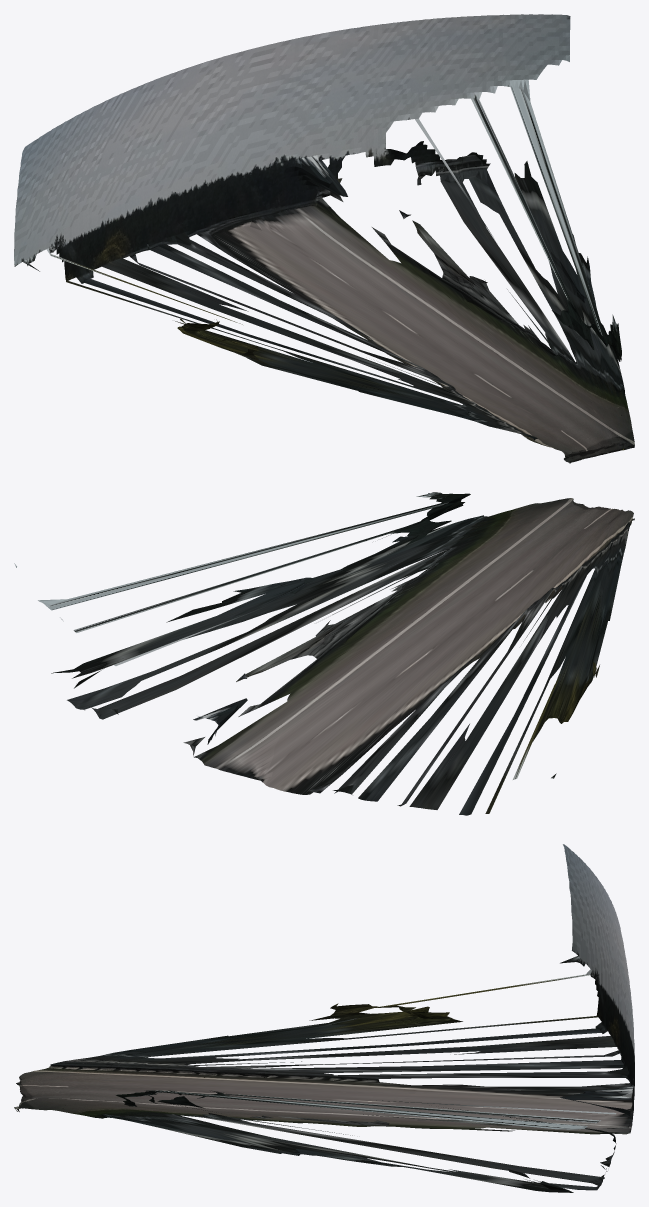
The picture shows the model from 3 angles, top to bottom: view 1: azimuth 30°, elevation 25°; view 2: azimuth 150°, elevation 25°; view 3: azimuth 270°, elevation 25°; orthographic projection. The views are drawn at different scales.
Parts seen in each view (by area): view 1: defaultobject; view 2: defaultobject; view 3: defaultobject.
Part boxes in pixels (x1,y1,x2,y2): defaultobject: (14,14,634,463); defaultobject: (14,492,634,815); defaultobject: (14,844,634,1192).
Bounding box in the file's own units: 41.02 × 12.85 × 44.52.
1 material, 1 textured.
